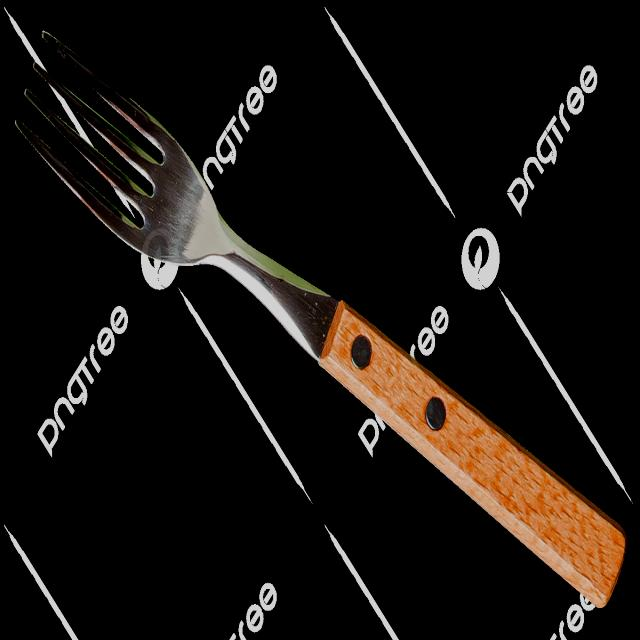Garpu: (16, 33, 634, 615)
